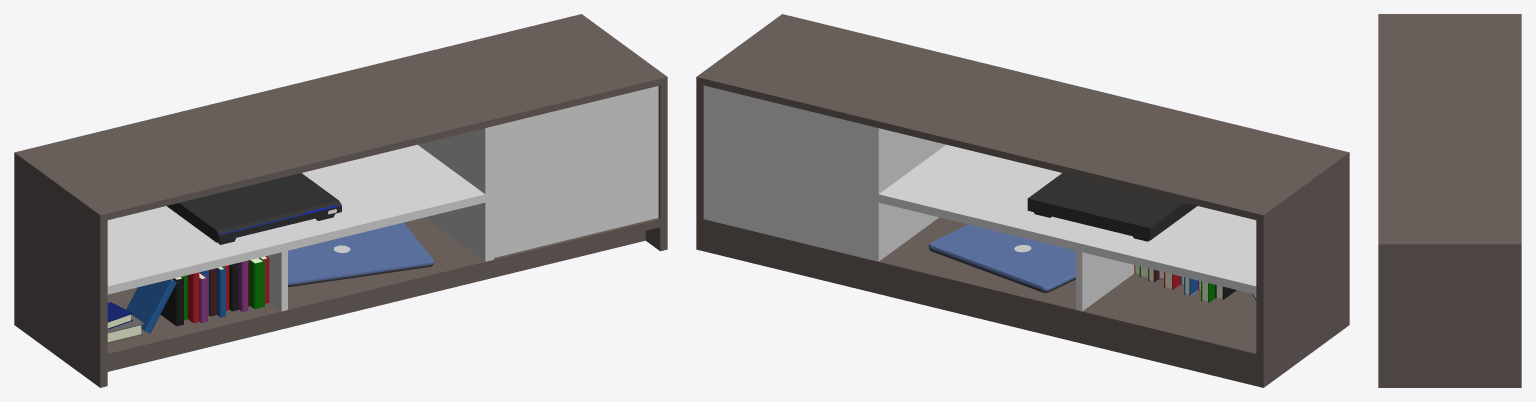
File: entertainment_center.gltf
3 renders of one model, left to right at view 1: azimuth 30°, elevation 25°; view 2: azimuth 150°, elevation 25°; view 3: azimuth 270°, elevation 25°, orthographic. The views are drawn at different scales.
Visible parts, largest first — view 1: Cube_0, Cube_1, Cube_14, Cube_11, Cube_3, Cube_8, Cube_4, Cube_7, Cube_5, Cube_2; view 2: Cube_0, Cube_1, Cube_14, Cube_11, Cube_2; view 3: Cube_0.
Boxes of the visible parts, x1,y1,x2,y2 form: Cube_0: (14,14,667,387); Cube_1: (107,86,658,311); Cube_14: (167,173,341,244); Cube_11: (288,222,434,284); Cube_3: (126,266,225,333); Cube_8: (160,263,238,326); Cube_4: (187,256,269,322); Cube_7: (199,260,247,322); Cube_5: (182,257,264,320); Cube_2: (107,256,266,341); Cube_0: (696,14,1349,387); Cube_1: (703,85,1256,311); Cube_14: (1027,173,1196,241); Cube_11: (928,224,1075,290); Cube_2: (1135,265,1256,301); Cube_0: (1378,14,1521,387).
Bounding box in the file's own units: 14.91 × 4.34 × 3.91.
